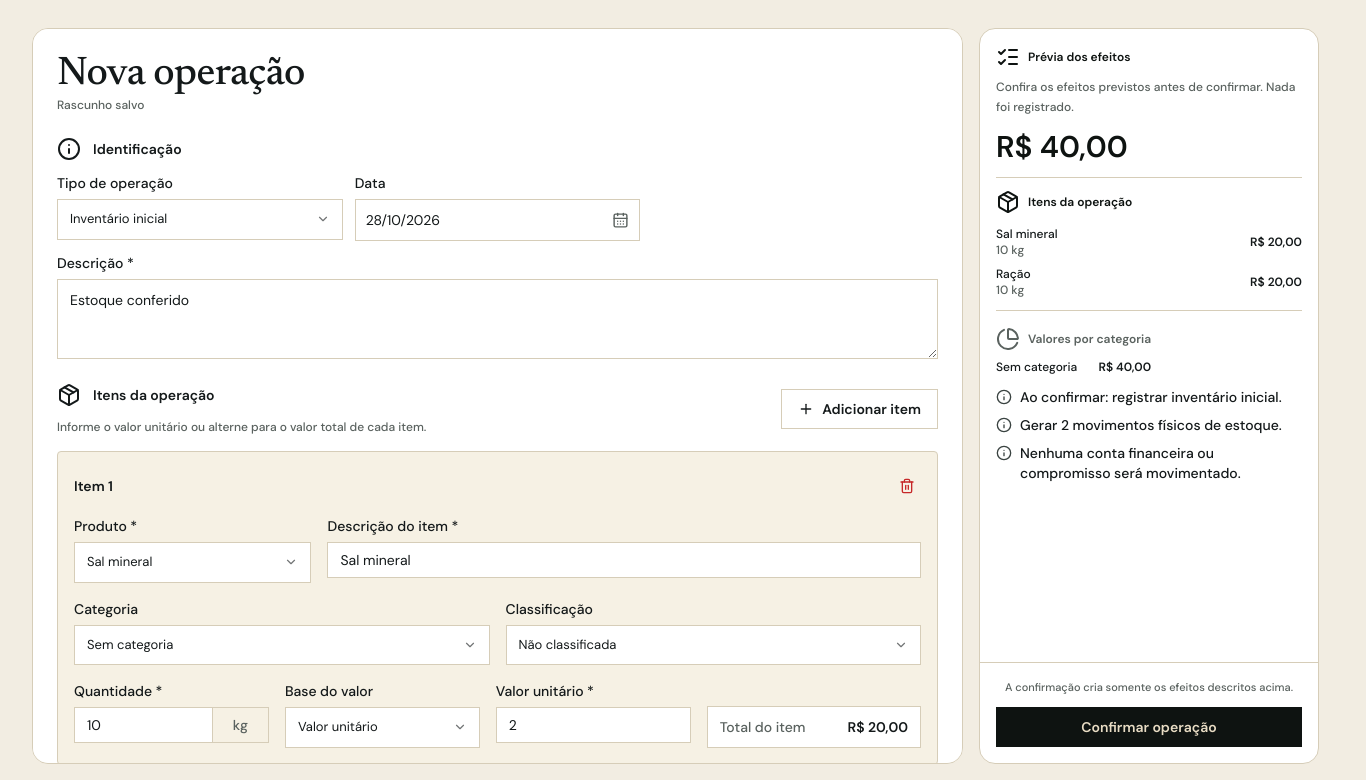
erros de distribuição dos lotes › localiza a distribuição pelo índice do segundo item e limpa o erro ao corrigir sua soma
The width and height of the screenshot is (1366, 780).
Click the button "Confirmar operação" at coordinates (1149, 727), box [996,707,1302,747]
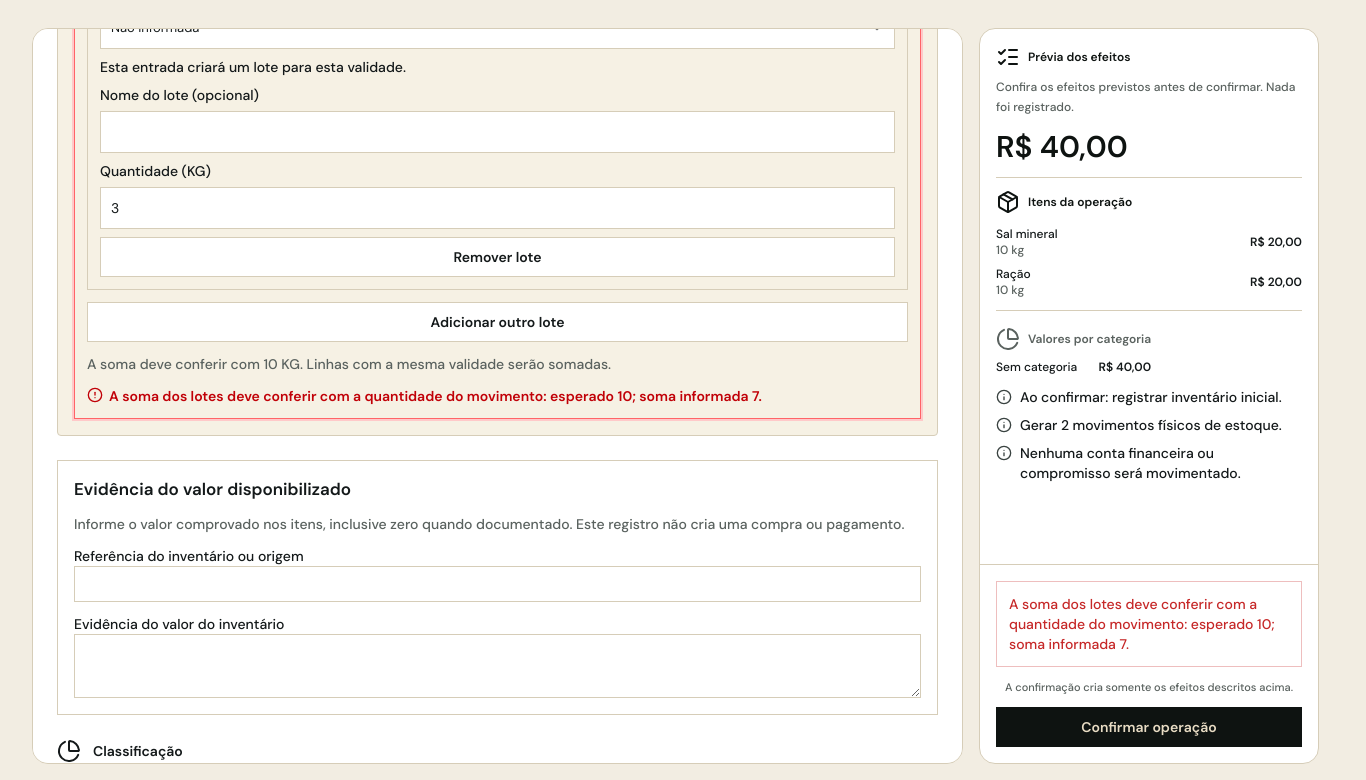
Replace the text in the number field named "Quantidade do lote 2" with "6" at coordinates (498, 208), box [100,186,895,228]
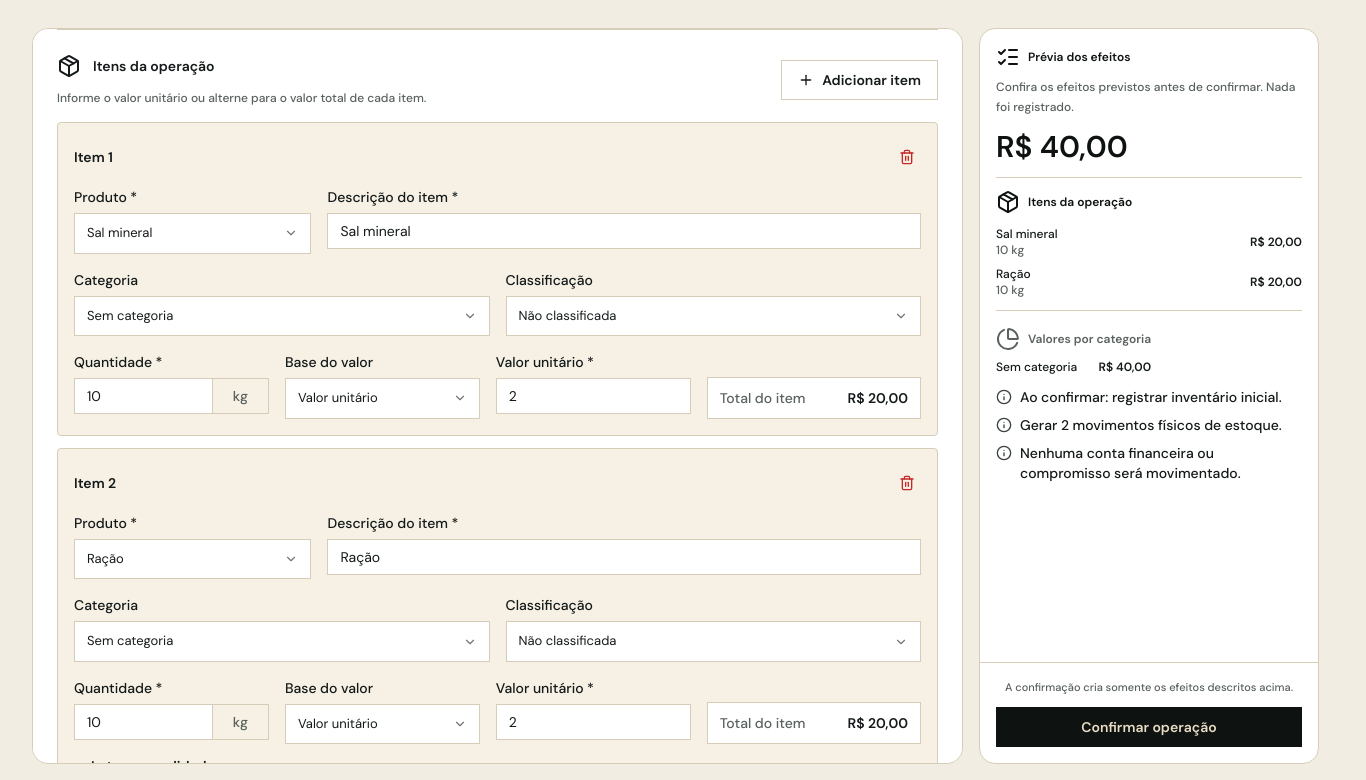
Expected: the text "A soma dos lotes deve conferir com a quantidade do movimento: esperado 10; soma informada 7." is not shown
Expected: the number field named "Quantidade do item 1" holds "10", [74,378,213,414]
